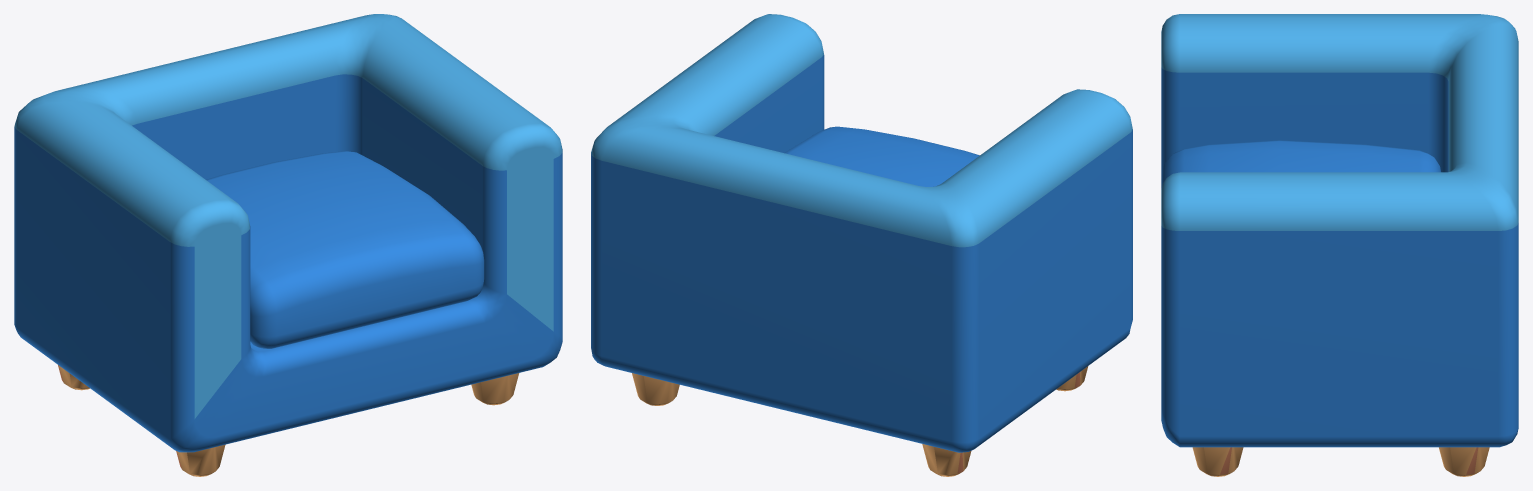
The model's file is poltrona_quadrada_azul_pacote.glb.
3 renders of one model, left to right at view 1: azimuth 30°, elevation 25°; view 2: azimuth 150°, elevation 25°; view 3: azimuth 270°, elevation 25°, orthographic. The views are drawn at different scales.
Parts seen in each view (by area): view 1: poltrona_quadrada_azul_pacote; view 2: poltrona_quadrada_azul_pacote; view 3: poltrona_quadrada_azul_pacote.
Boxes of the visible parts, x1,y1,x2,y2 form: poltrona_quadrada_azul_pacote: (14, 14, 562, 476); poltrona_quadrada_azul_pacote: (591, 14, 1132, 476); poltrona_quadrada_azul_pacote: (1161, 14, 1518, 476).
Bounding box in the file's own units: 1 × 0.7 × 0.765.
1 material, 1 textured.
